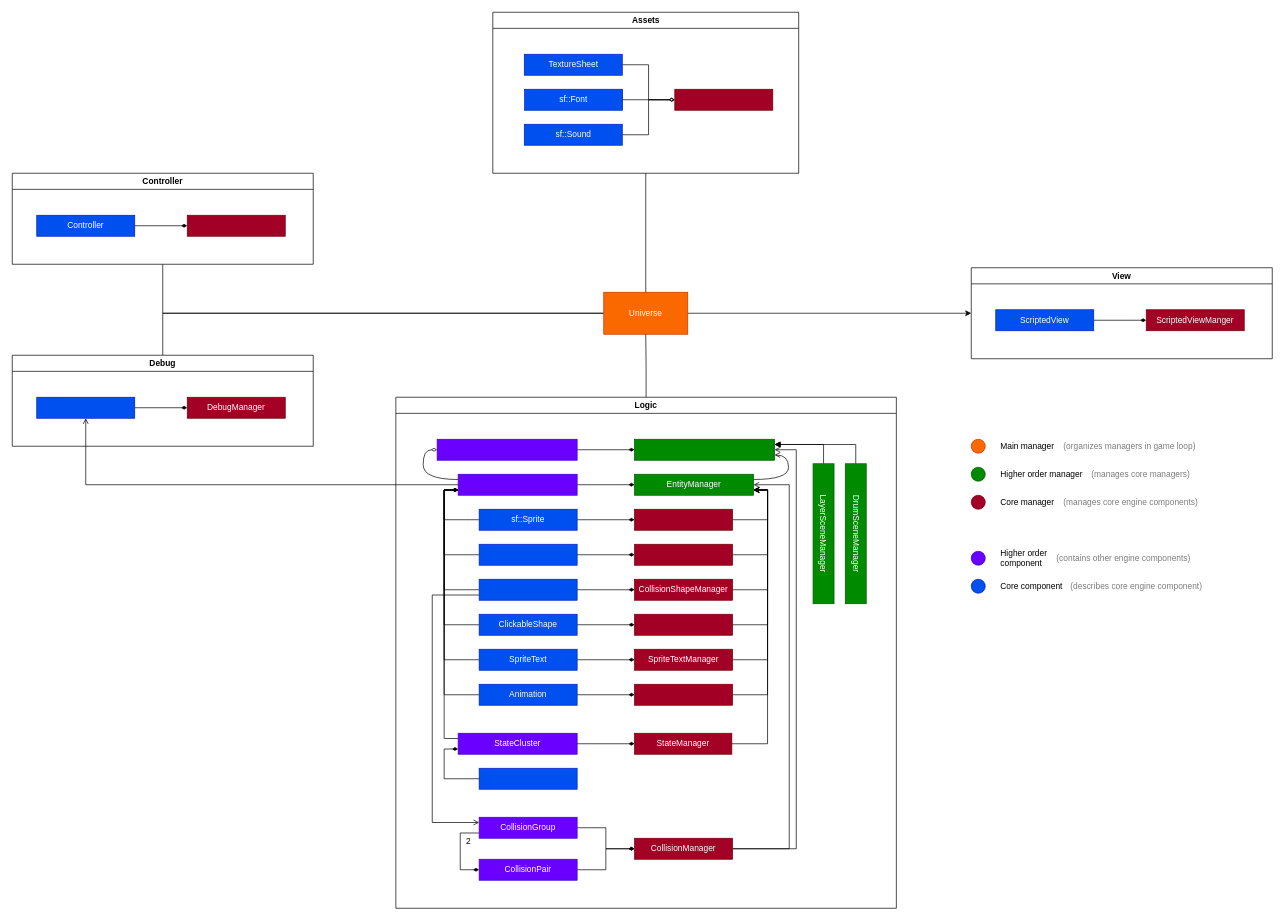
The diagram is 1285 pixels wide and 921 high, and some of its shapes have lost their labels. The shapes that lost their labels are listed below. From the top down, each one's centre as x and y in pixels, then its label:
pixel 723 99: AssetsManager
pixel 236 225: ControllerManager
pixel 85 407: DebugEntity
pixel 506 449: Scene
pixel 704 449: SceneManager
pixel 517 484: Entity
pixel 683 519: SpriteManager
pixel 527 554: PhysicalObject
pixel 683 554: PhysicsManager
pixel 527 589: CollisionShape(s)
pixel 683 624: ClickableShapeManager
pixel 683 694: AnimationManager
pixel 527 778: State
